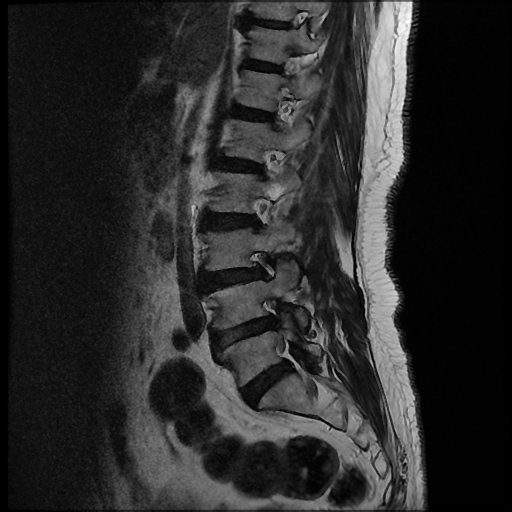RFS0: (243, 188, 281, 234)
RFS2: (244, 240, 282, 290), (251, 292, 291, 338)
